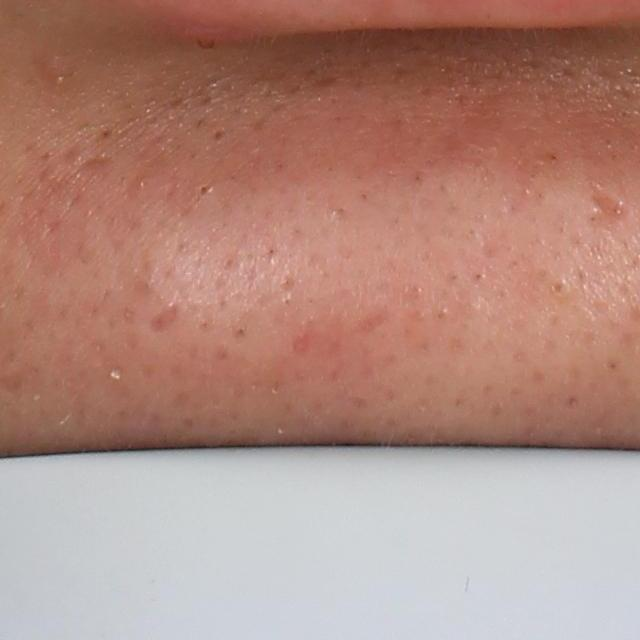atrophic_scar: (147, 300, 182, 337)
comedo: (546, 275, 576, 302), (194, 178, 215, 196), (211, 127, 228, 144)
